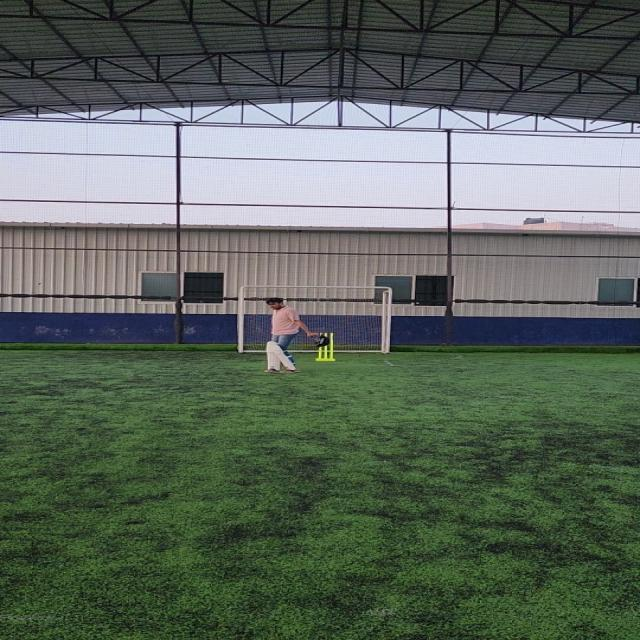stump: (316, 331, 338, 361)
